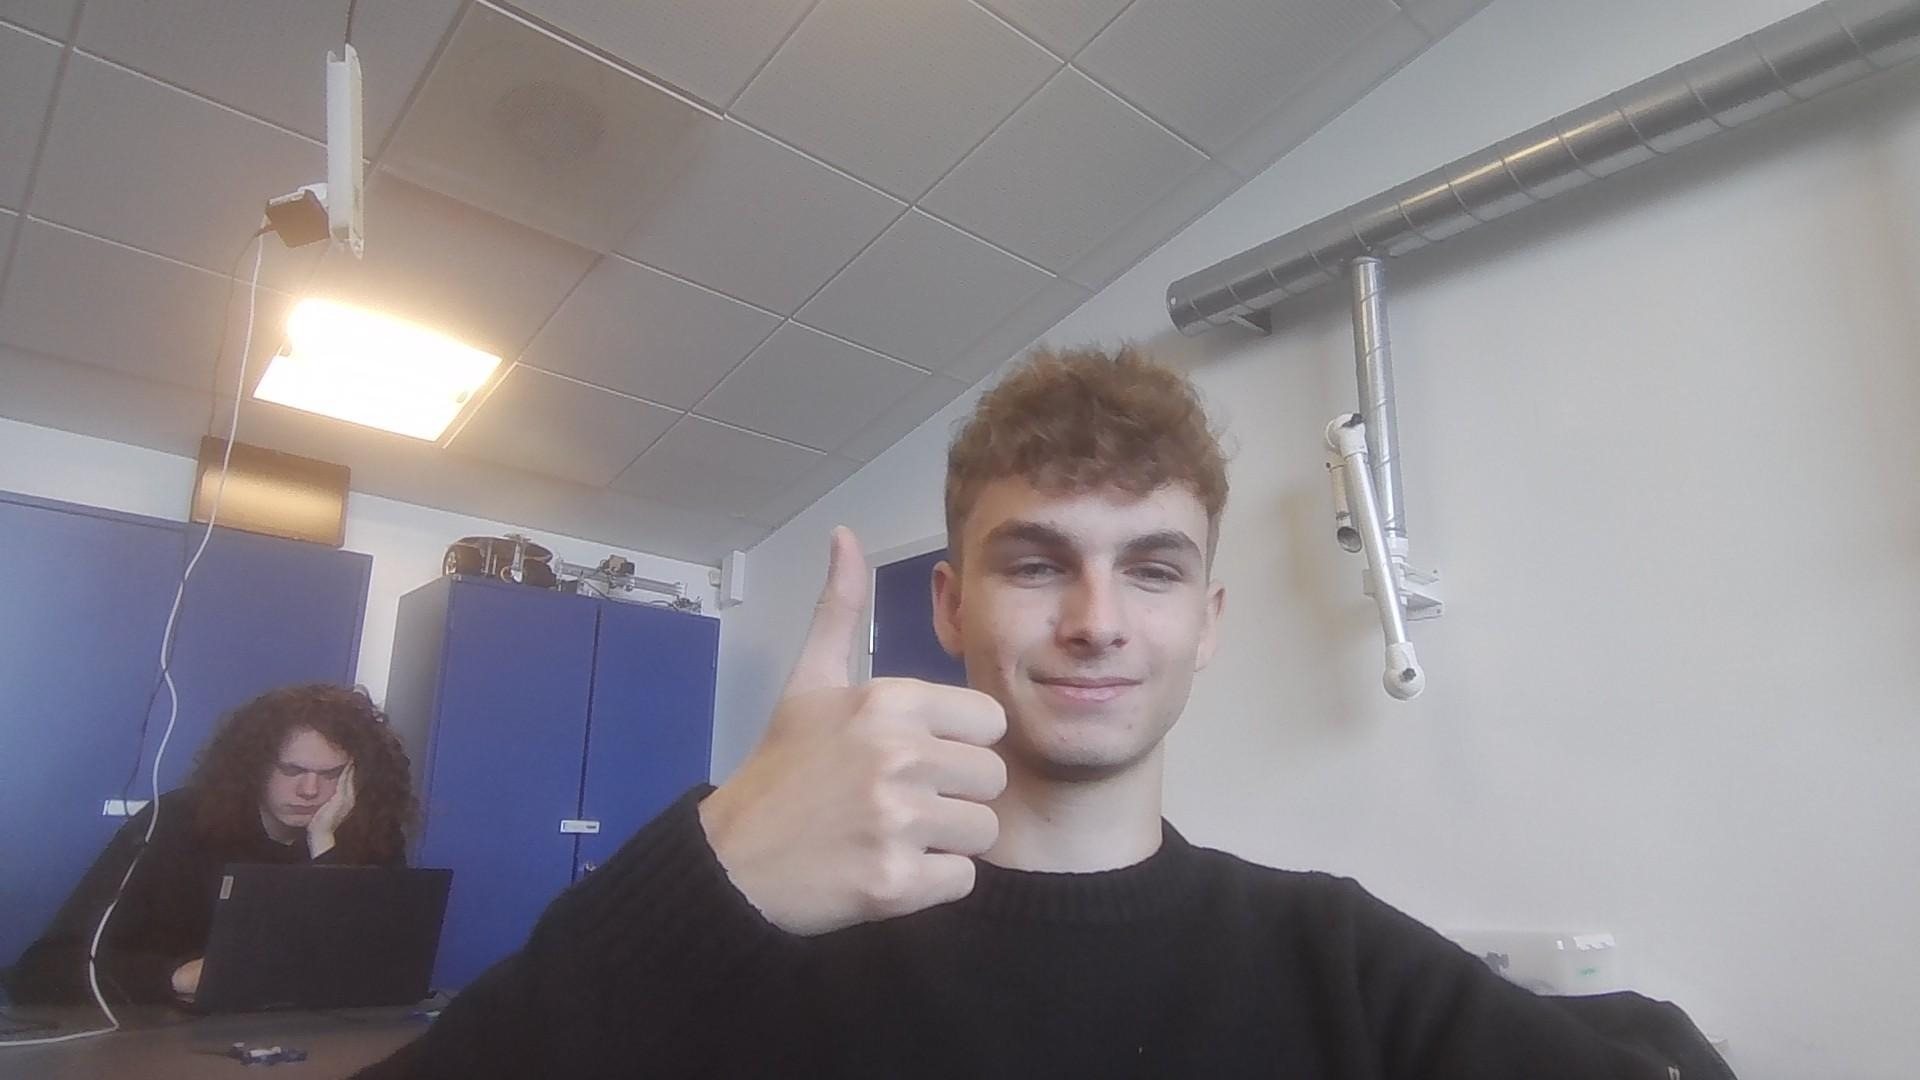thumbs up: (764, 518, 1005, 928)
